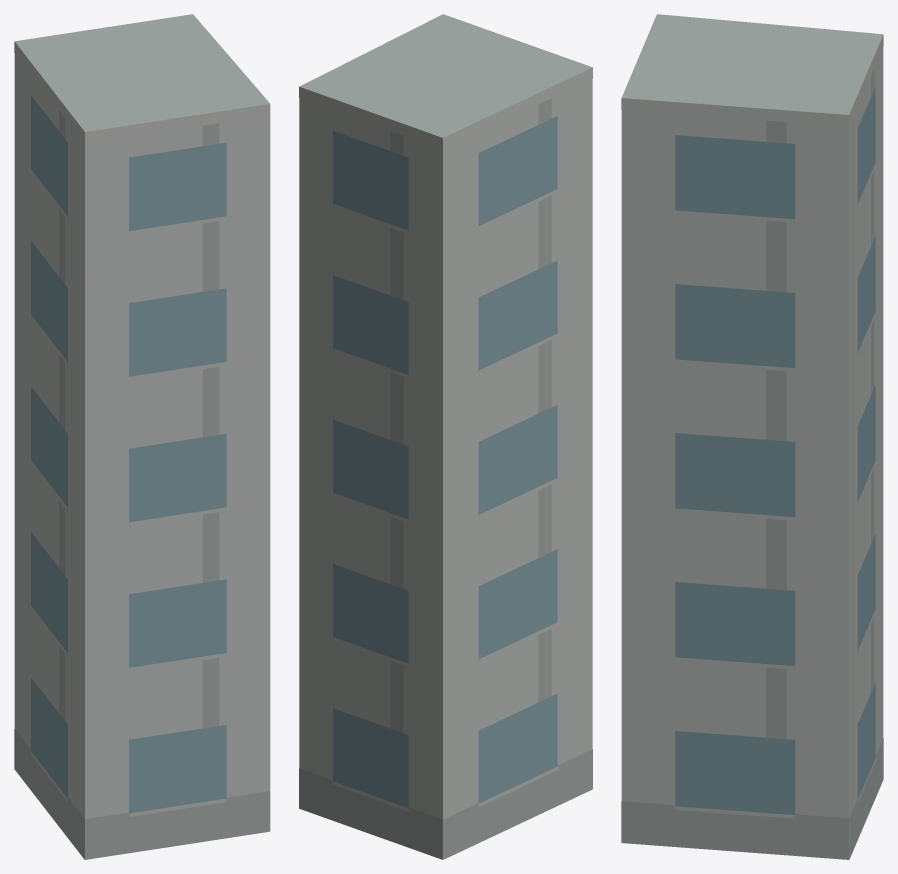
Rendered from survey-upis-32697074.glb.
3 renders of one model, left to right at view 1: azimuth 30°, elevation 25°; view 2: azimuth 150°, elevation 25°; view 3: azimuth 270°, elevation 25°, orthographic. The views are drawn at different scales.
Parts seen in each view (by area): view 1: survey-upis-32697074.tmp; view 2: survey-upis-32697074.tmp; view 3: survey-upis-32697074.tmp.
Part boxes in pixels (<box>): survey-upis-32697074.tmp: <box>14,14,270,859</box>; survey-upis-32697074.tmp: <box>299,14,592,859</box>; survey-upis-32697074.tmp: <box>621,14,883,859</box>.
Size of the model in its own units: 4.44 by 15.25 by 4.87.
